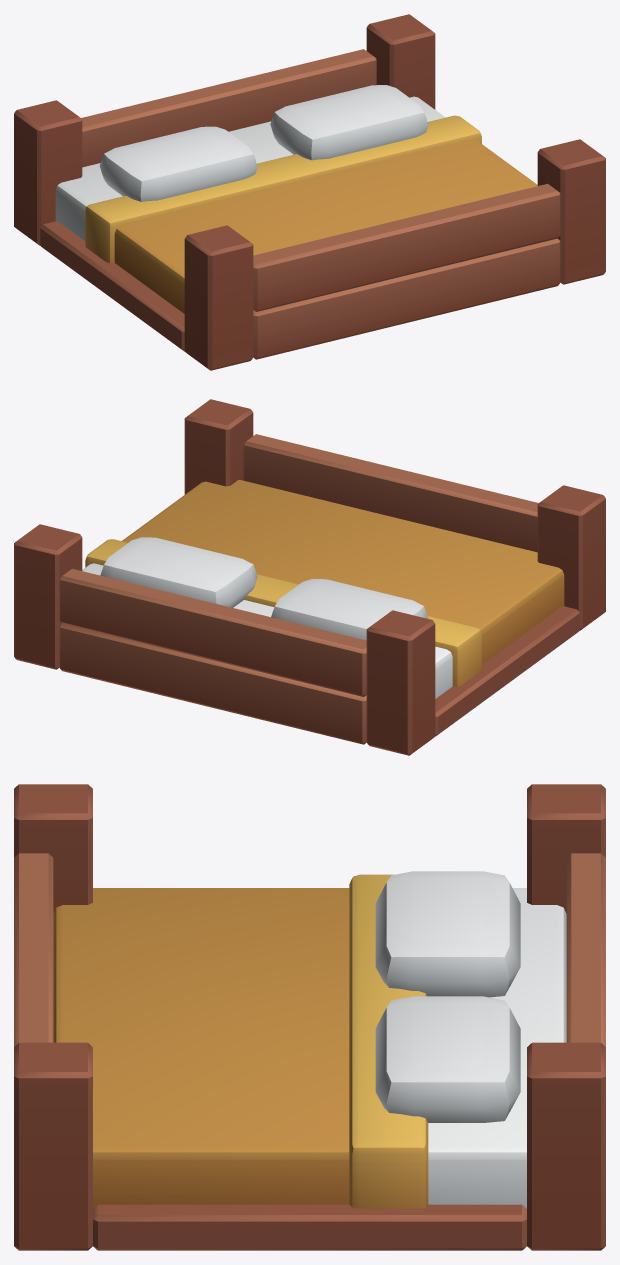
The model's file is bed_a_double.glb.
3 renders of one model, top to bottom at view 1: azimuth 30°, elevation 25°; view 2: azimuth 150°, elevation 25°; view 3: azimuth 270°, elevation 25°, orthographic. The views are drawn at different scales.
Parts seen in each view (by area): view 1: bed_A_double; view 2: bed_A_double; view 3: bed_A_double.
Boxes of the visible parts, x1,y1,x2,y2 form: bed_A_double: (14, 14, 605, 370); bed_A_double: (14, 399, 605, 755); bed_A_double: (14, 784, 605, 1250).
Size of the model in its own units: 3.5 by 0.9999 by 3.
1 material, 1 textured.
